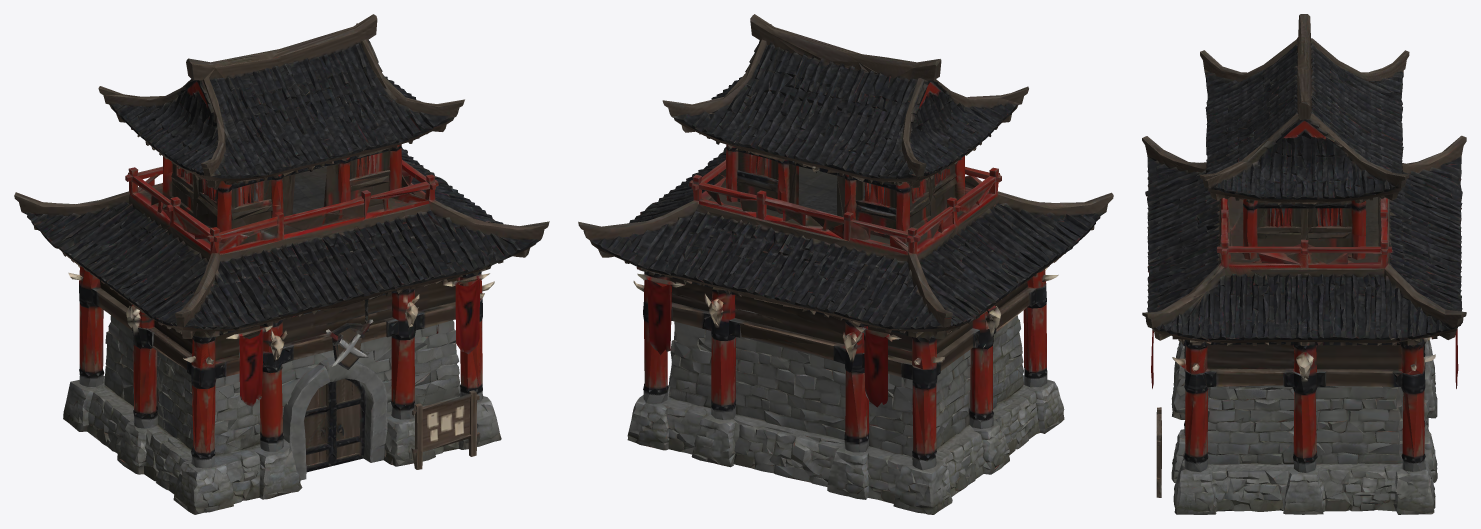
The model's file is guild_hall.glb.
3 views of the same model, side by side, from view 1: azimuth 30°, elevation 25°; view 2: azimuth 150°, elevation 25°; view 3: azimuth 270°, elevation 25° (orthographic). The views are drawn at different scales.
Visible parts, largest first — view 1: guild_hall; view 2: guild_hall; view 3: guild_hall.
Boxes of the visible parts, x1,y1,x2,y2 form: guild_hall: (14,14,549,514); guild_hall: (578,14,1113,514); guild_hall: (1142,14,1466,514).
Size of the model in its own units: 15.98 by 16 by 12.27.
Materials: 1 (1 with a texture image).
